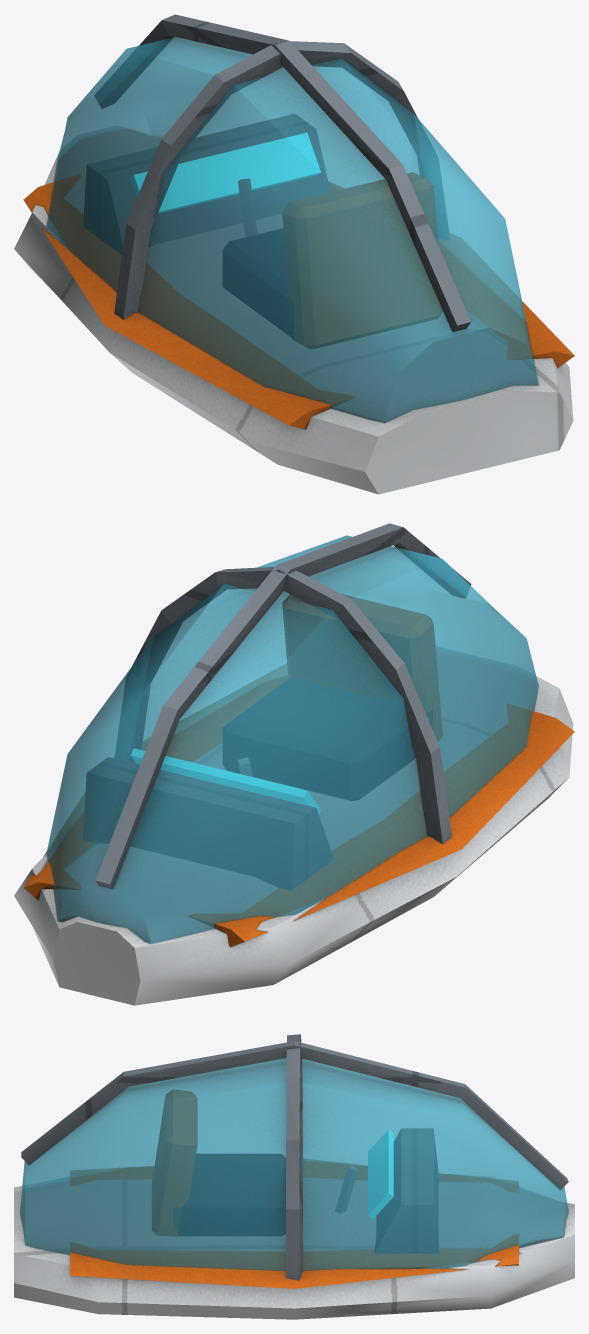
Rendered from cabina_basica.fbx.
3 renders of one model, top to bottom at view 1: azimuth 30°, elevation 25°; view 2: azimuth 150°, elevation 25°; view 3: azimuth 270°, elevation 25°, orthographic. The views are drawn at different scales.
Visible parts, largest first — view 1: cabina_basica, cabina_basica_cristal, cabina_basica_neon; view 2: cabina_basica, cabina_basica_cristal, cabina_basica_neon; view 3: cabina_basica, cabina_basica_cristal, cabina_basica_neon.
Boxes of the visible parts, x1,y1,x2,y2 form: cabina_basica: (14, 14, 574, 494); cabina_basica_cristal: (46, 37, 538, 423); cabina_basica_neon: (131, 133, 320, 213); cabina_basica: (14, 523, 574, 1005); cabina_basica_cristal: (46, 535, 538, 943); cabina_basica_neon: (130, 748, 320, 814); cabina_basica: (14, 1034, 574, 1319); cabina_basica_cristal: (20, 1058, 568, 1270); cabina_basica_neon: (368, 1129, 393, 1218).
Size of the model in its own units: 2.88 by 2.27 by 5.2.
3 materials, 3 textured.
